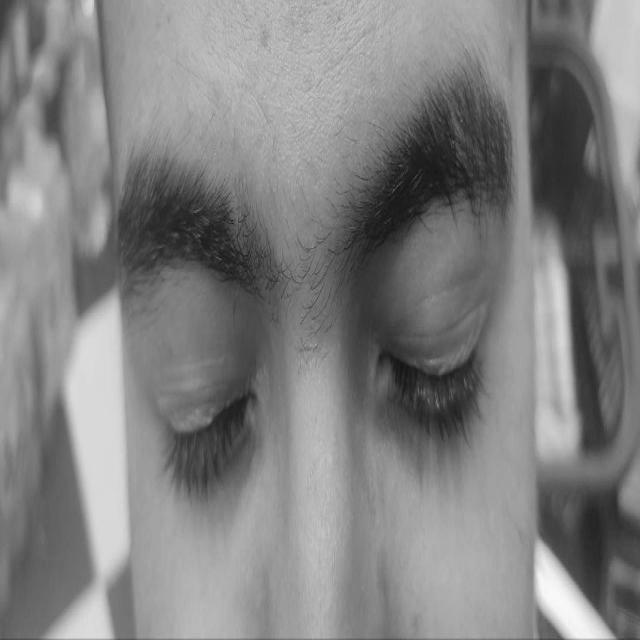real: (126, 228, 507, 522)
